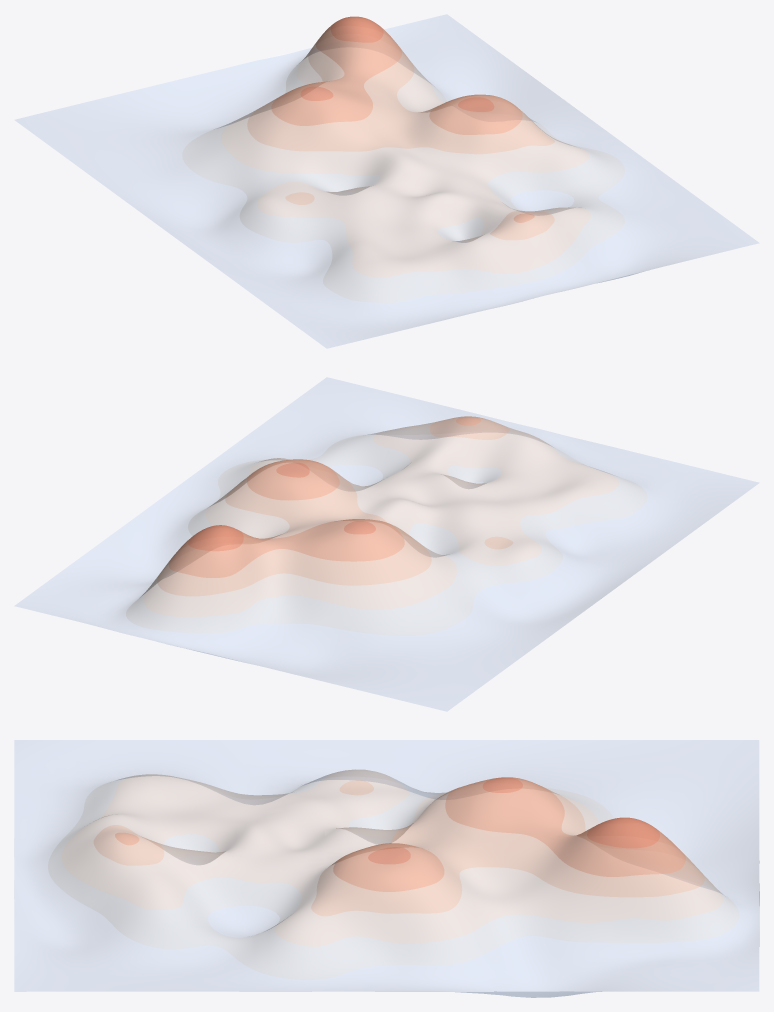
The model's file is test_mhq3.fbx.
The picture shows the model from 3 angles, top to bottom: view 1: azimuth 30°, elevation 25°; view 2: azimuth 150°, elevation 25°; view 3: azimuth 270°, elevation 25°; orthographic projection. The views are drawn at different scales.
Parts seen in each view (by area): view 1: 物件_11, 物件_9, 物件_5, 物件_3, 物件_2, 物件_27, 物件_32, 物件_1, 物件_33, 物件_7, 物件_29, 物件_30; view 2: 物件_11, 物件_9, 物件_5, 物件_3, 物件_2, 物件_27, 物件_32, 物件_1, 物件_33, 物件_7, 物件_29, 物件_30; view 3: 物件_11, 物件_9, 物件_5, 物件_3, 物件_2, 物件_27, 物件_32, 物件_1, 物件_33, 物件_29, 物件_7, 物件_30 (+2 smaller).
Boxes of the visible parts, bbox=[...] form: 物件_11: bbox=[15, 14, 758, 348]; 物件_9: bbox=[221, 45, 591, 277]; 物件_5: bbox=[182, 50, 624, 302]; 物件_3: bbox=[247, 42, 554, 154]; 物件_2: bbox=[271, 24, 401, 125]; 物件_27: bbox=[429, 94, 522, 134]; 物件_32: bbox=[389, 178, 466, 203]; 物件_1: bbox=[376, 228, 433, 258]; 物件_33: bbox=[490, 211, 554, 240]; 物件_7: bbox=[330, 16, 383, 42]; 物件_29: bbox=[511, 190, 573, 211]; 物件_30: bbox=[438, 218, 483, 242]; 物件_11: bbox=[15, 377, 758, 711]; 物件_9: bbox=[143, 419, 619, 617]; 物件_5: bbox=[126, 427, 647, 635]; 物件_3: bbox=[157, 461, 431, 596]; 物件_2: bbox=[169, 519, 404, 577]; 物件_27: bbox=[247, 459, 339, 500]; 物件_32: bbox=[400, 473, 467, 508]; 物件_1: bbox=[507, 469, 568, 498]; 物件_33: bbox=[429, 416, 509, 439]; 物件_7: bbox=[188, 525, 243, 551]; 物件_29: bbox=[330, 465, 382, 491]; 物件_30: bbox=[448, 465, 501, 488]; 物件_11: bbox=[14, 740, 758, 997]; 物件_9: bbox=[61, 769, 722, 946]; 物件_5: bbox=[48, 770, 739, 979]; 物件_3: bbox=[311, 788, 704, 916]; 物件_2: bbox=[445, 777, 685, 876]; 物件_27: bbox=[333, 843, 444, 891]; 物件_32: bbox=[241, 819, 324, 856]; 物件_1: bbox=[145, 795, 236, 821]; 物件_33: bbox=[93, 825, 164, 865]; 物件_29: bbox=[208, 906, 279, 937]; 物件_7: bbox=[587, 817, 659, 848]; 物件_30: bbox=[164, 834, 219, 864].
Bounding box in the file's own units: 5707 × 7148 × 1219.
